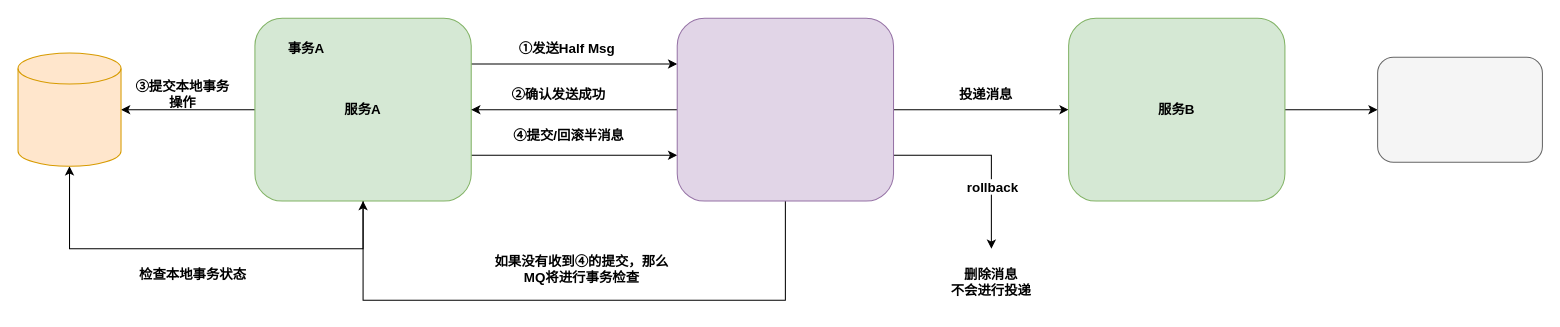
This 1560x327 diagram has some shape labels left out. The centre of each missing label's shape, as x and y in pixels:
"MQ服务器" belongs at point 785,109.
"消费消息，完成自己的本地事务" belongs at point 1459,109.
